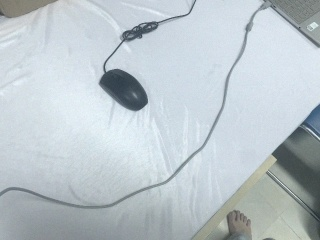box: (1, 1, 63, 19)
mouse: (98, 68, 150, 111)
